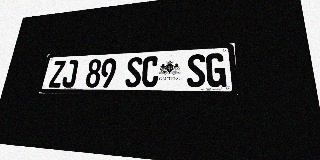8: (85, 59, 102, 87)
9: (99, 58, 117, 87)
C: (141, 56, 159, 87)
G: (206, 53, 226, 87)
J: (61, 60, 79, 87)
S: (187, 54, 206, 87), (125, 57, 143, 87)
Z: (48, 60, 66, 88)
